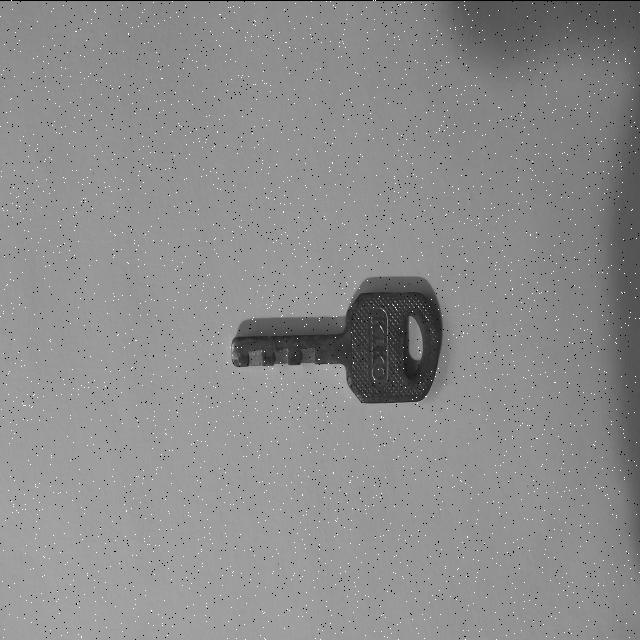key: (231, 292, 440, 403)
